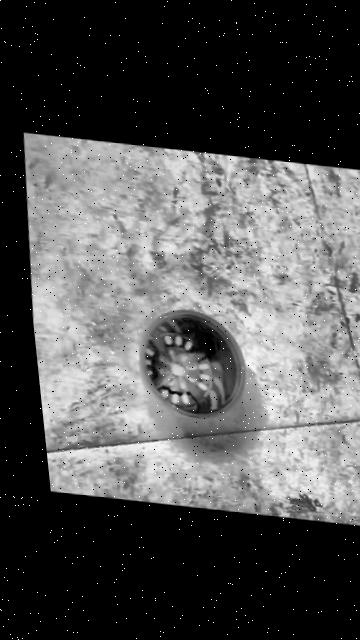pot: (130, 303, 252, 423)
